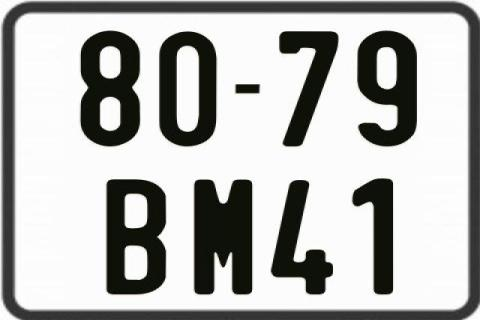0: (269, 180, 335, 295), (79, 31, 141, 150), (355, 30, 417, 148), (156, 32, 216, 152), (277, 29, 336, 145), (352, 178, 394, 296)
B: (105, 178, 165, 294)
M: (191, 178, 252, 294)
